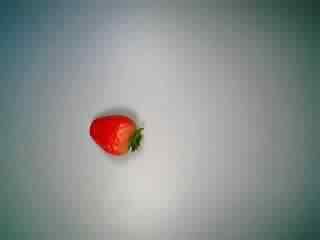strawberry: (82, 107, 145, 165)
